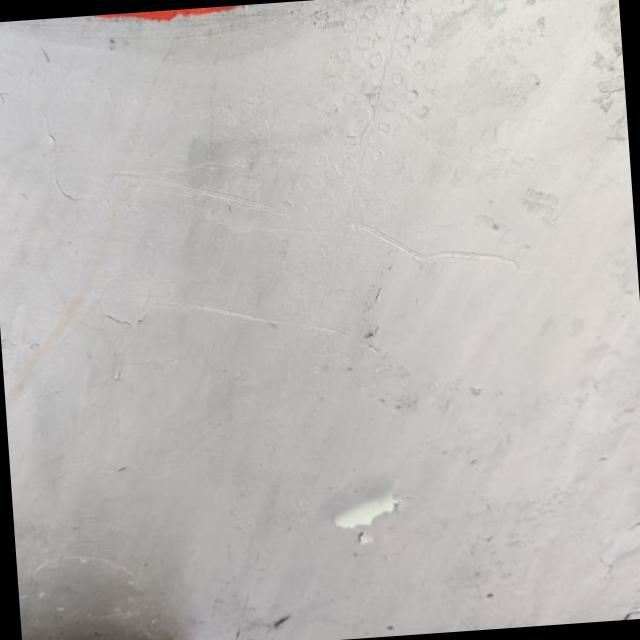Paint-off: (320, 477, 398, 544)
Scratch: (350, 223, 517, 267), (137, 176, 288, 218), (294, 302, 384, 368), (127, 296, 281, 329), (116, 174, 134, 204)
